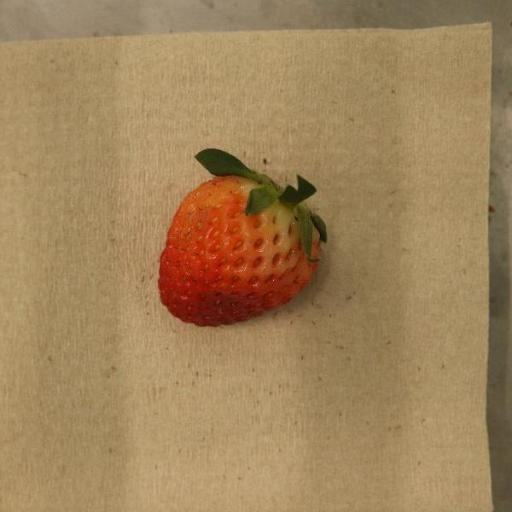Strawberry: (158, 149, 328, 328)
